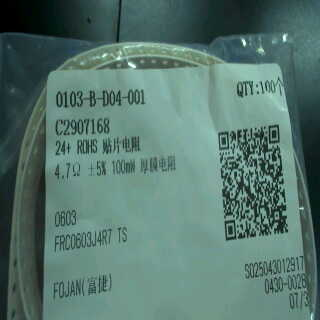4.7R: (51, 157, 83, 183)
